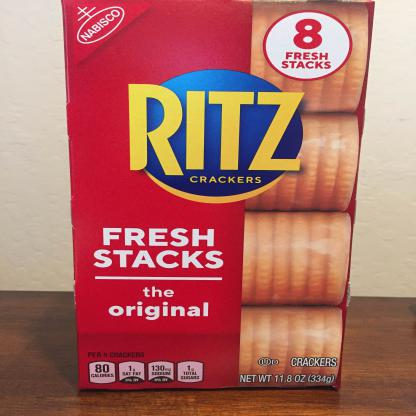RitzBox: (57, 2, 370, 400)
